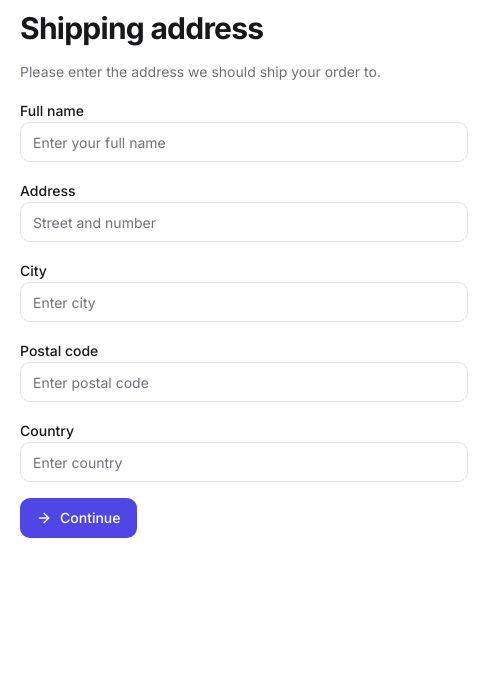
Test: ShippingAddressForm › shows validation errors and does not submit an empty address
Click the button "Continue". click: (78, 518)
box: [20,498,136,538]
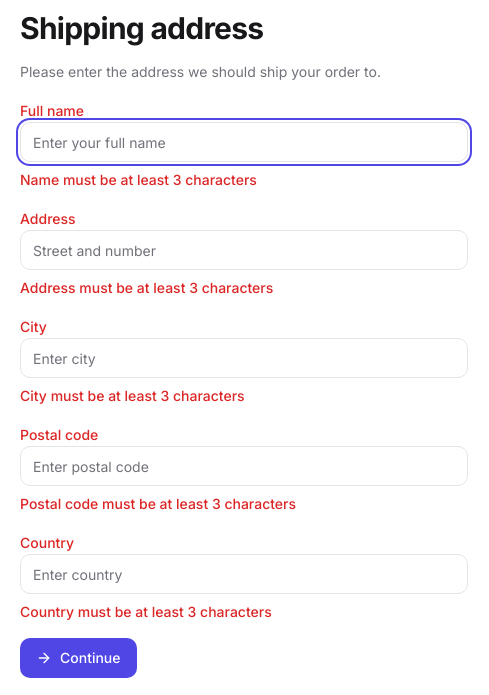
Expected: the text "Name must be at least 3 characters" is shown, [20,171,257,188]
Expected: the text "City must be at least 3 characters" is shown, [20,387,245,404]
